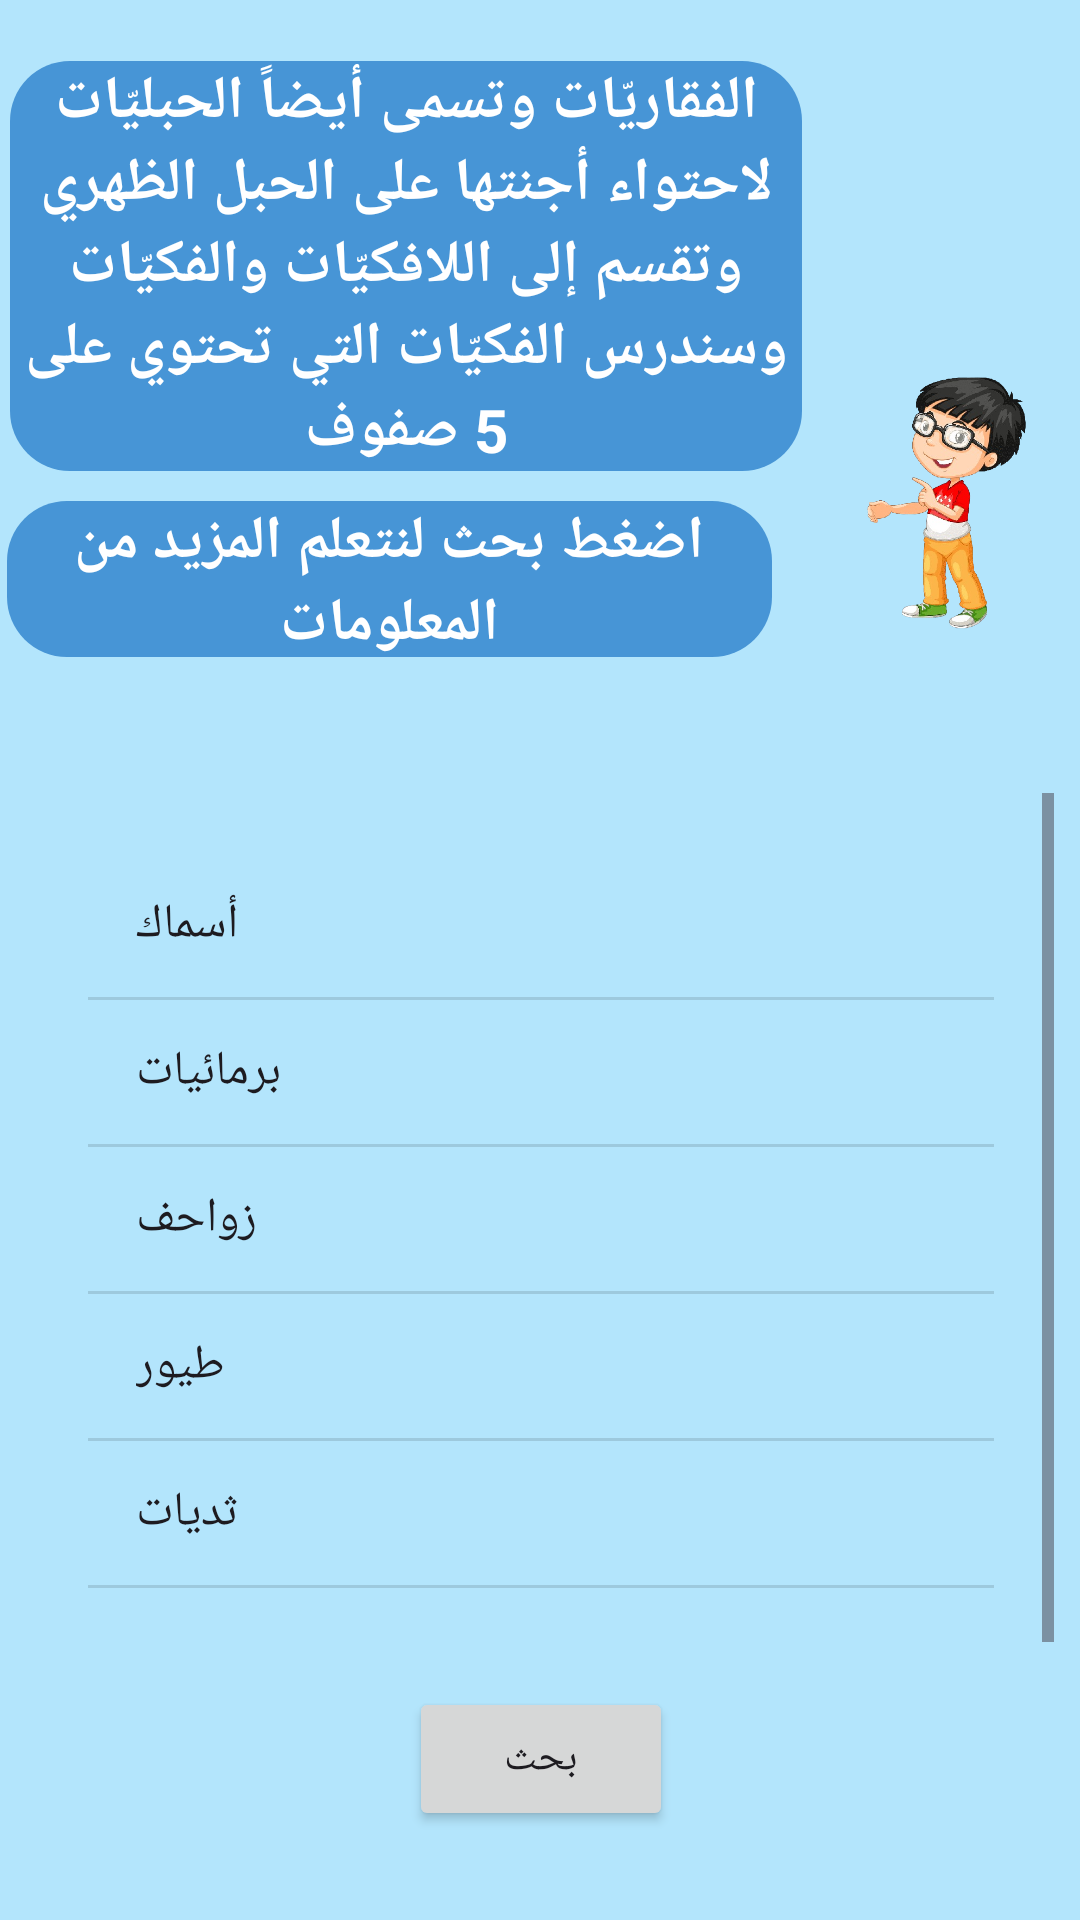

Screen size 1080 × 1920. Icon name, then its center in pixels as point (x, y):
boy: point (946, 502)
